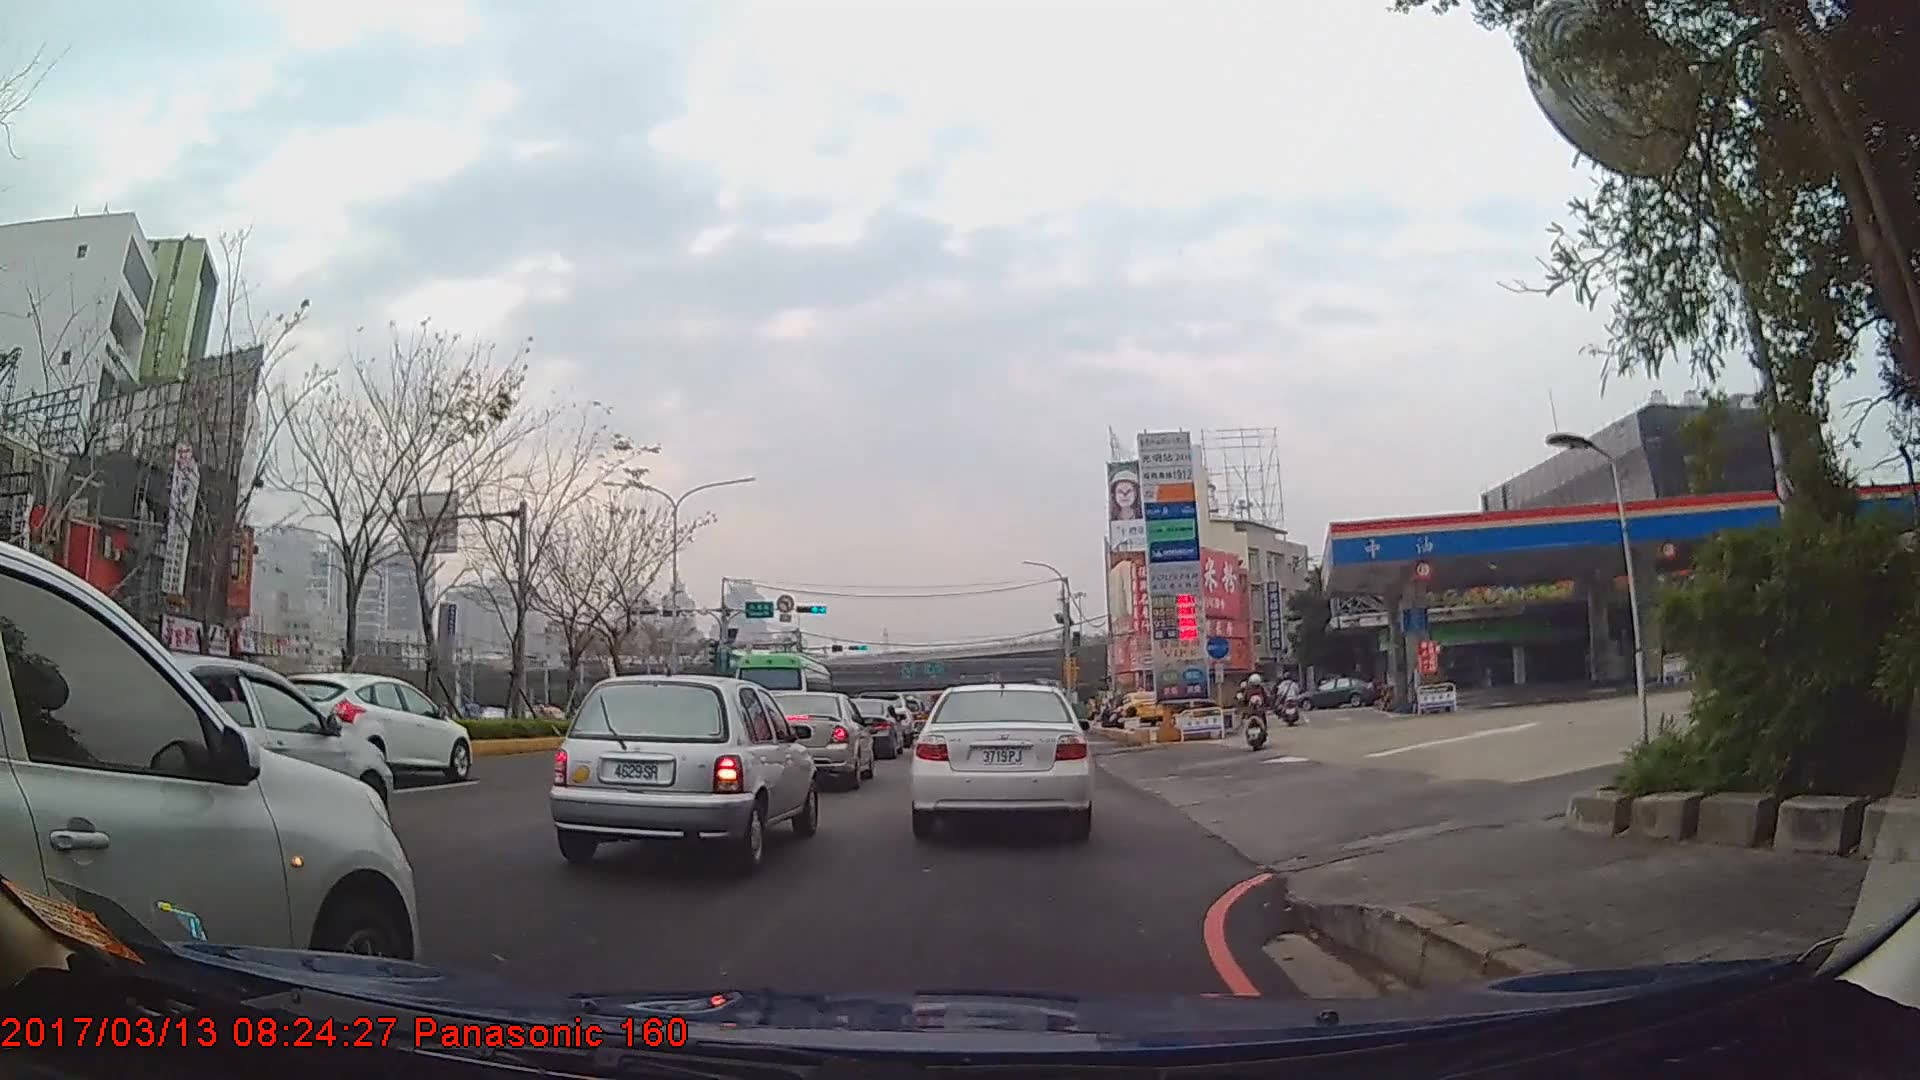rider: (1240, 673, 1271, 751), (1278, 672, 1302, 727)
vehicle: (0, 540, 422, 1016), (548, 670, 816, 873), (912, 680, 1091, 840), (261, 669, 471, 781), (747, 688, 872, 788), (729, 649, 831, 736), (828, 694, 904, 761), (1295, 673, 1378, 707), (1114, 688, 1165, 724)
